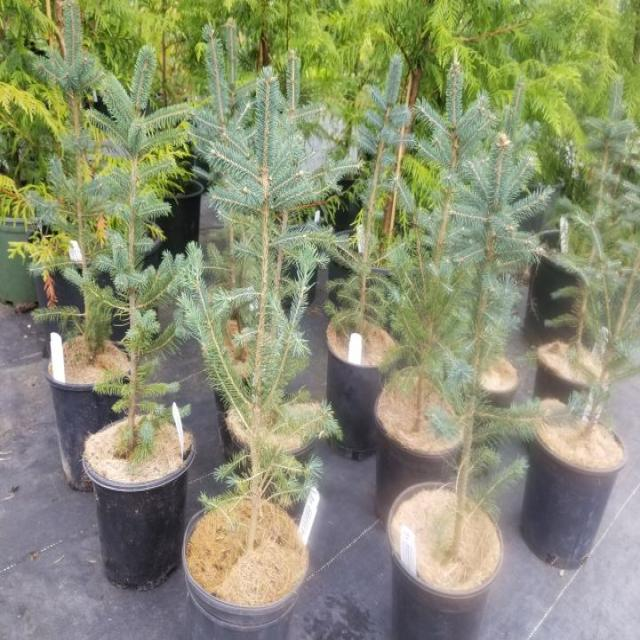Picea engelmannii: (188, 59, 351, 559), (80, 53, 191, 460), (431, 113, 525, 561), (562, 112, 640, 436)
